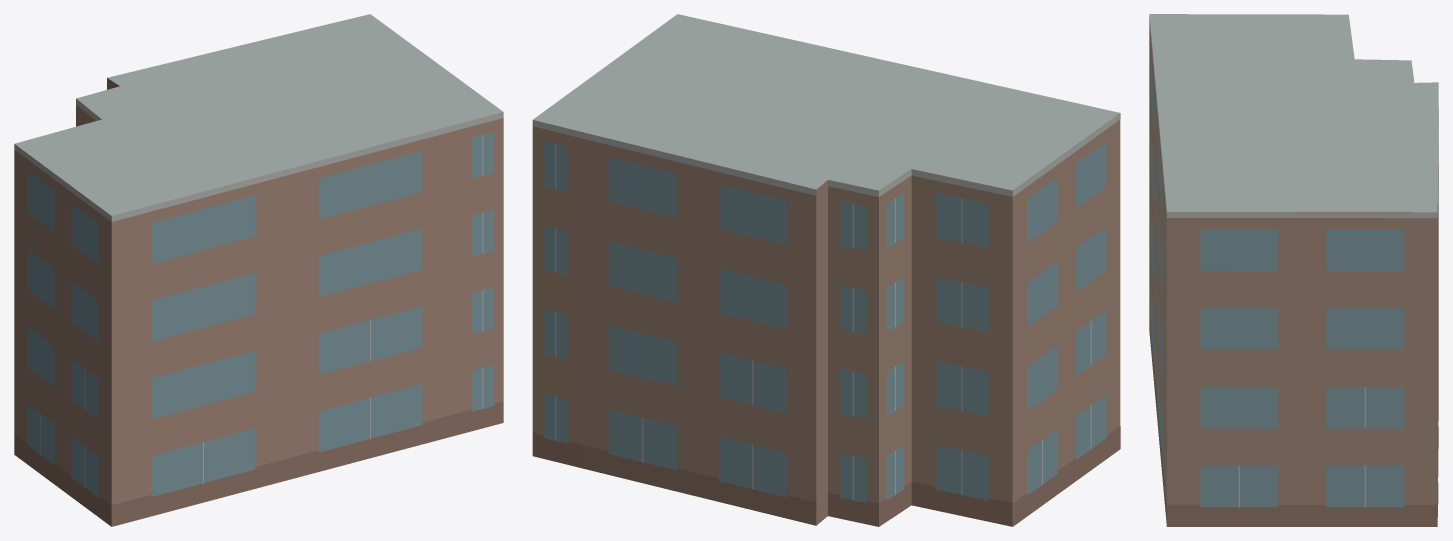
Rendered from survey-upis-32624458.glb.
The picture shows the model from 3 angles, left to right: view 1: azimuth 30°, elevation 25°; view 2: azimuth 150°, elevation 25°; view 3: azimuth 270°, elevation 25°; orthographic projection. The views are drawn at different scales.
Visible parts, largest first — view 1: survey-upis-32624458.tmp; view 2: survey-upis-32624458.tmp; view 3: survey-upis-32624458.tmp.
Boxes of the visible parts, x1,y1,x2,y2 form: survey-upis-32624458.tmp: (14,14,503,526); survey-upis-32624458.tmp: (532,14,1120,526); survey-upis-32624458.tmp: (1149,14,1438,526).
Size of the model in its own units: 17.15 by 12.7 by 10.59.
